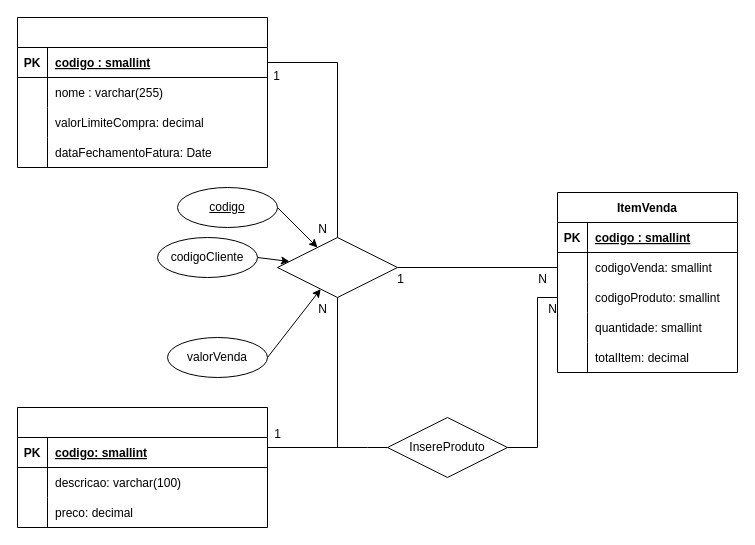
Image size: 755x545. Some labels were removed from this diagram. The box of each missing label's shape, as (x1, y1, x2, y2) in pixels:
Cliente: (16, 16, 268, 168)
Produto: (16, 406, 268, 528)
Venda: (276, 236, 398, 298)
